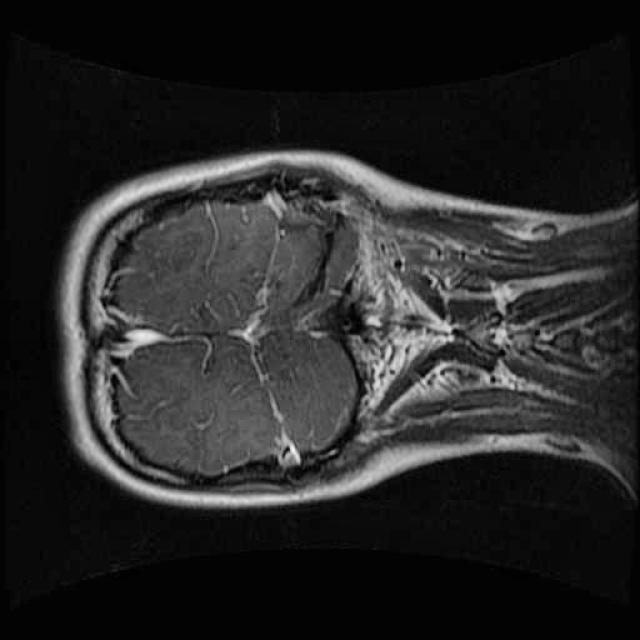Non-Tumor: (124, 324, 219, 401)
